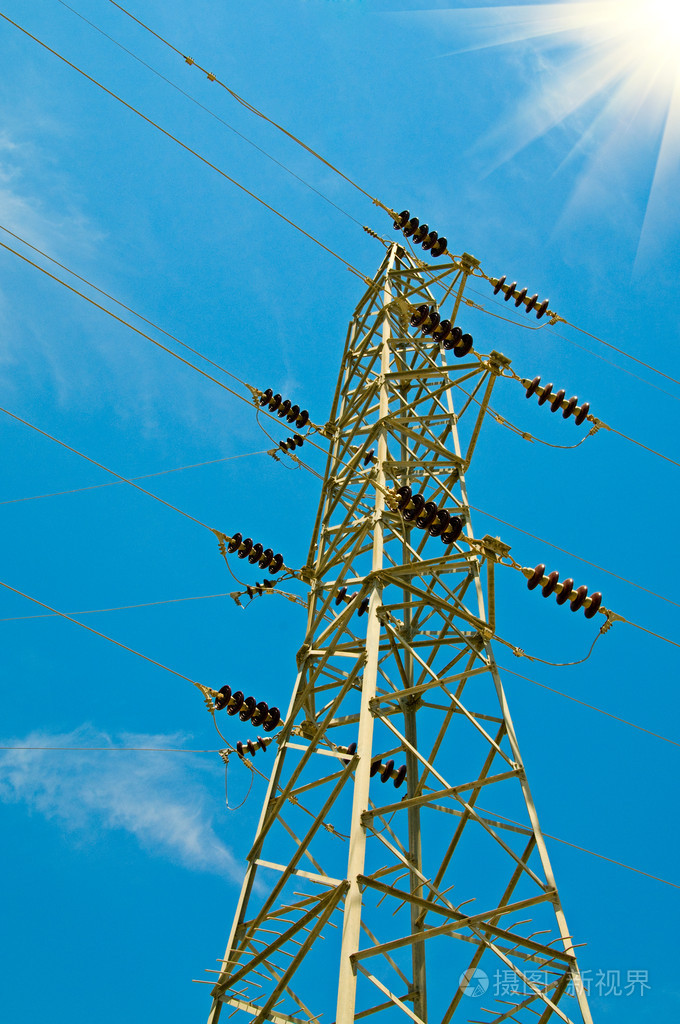insulator: (385, 485, 462, 549), (522, 563, 605, 621), (521, 375, 593, 430), (407, 301, 475, 356), (214, 683, 279, 732), (389, 206, 449, 259), (492, 270, 550, 318), (226, 531, 285, 575), (350, 747, 408, 789), (255, 387, 311, 428), (234, 735, 265, 760), (241, 578, 276, 600), (272, 436, 309, 455)
